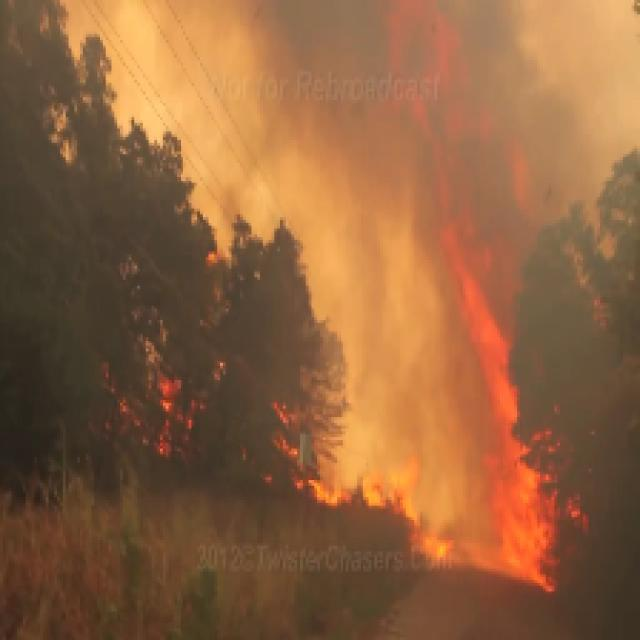Fire: (422, 226, 578, 594)
Smoke: (292, 28, 562, 195)
